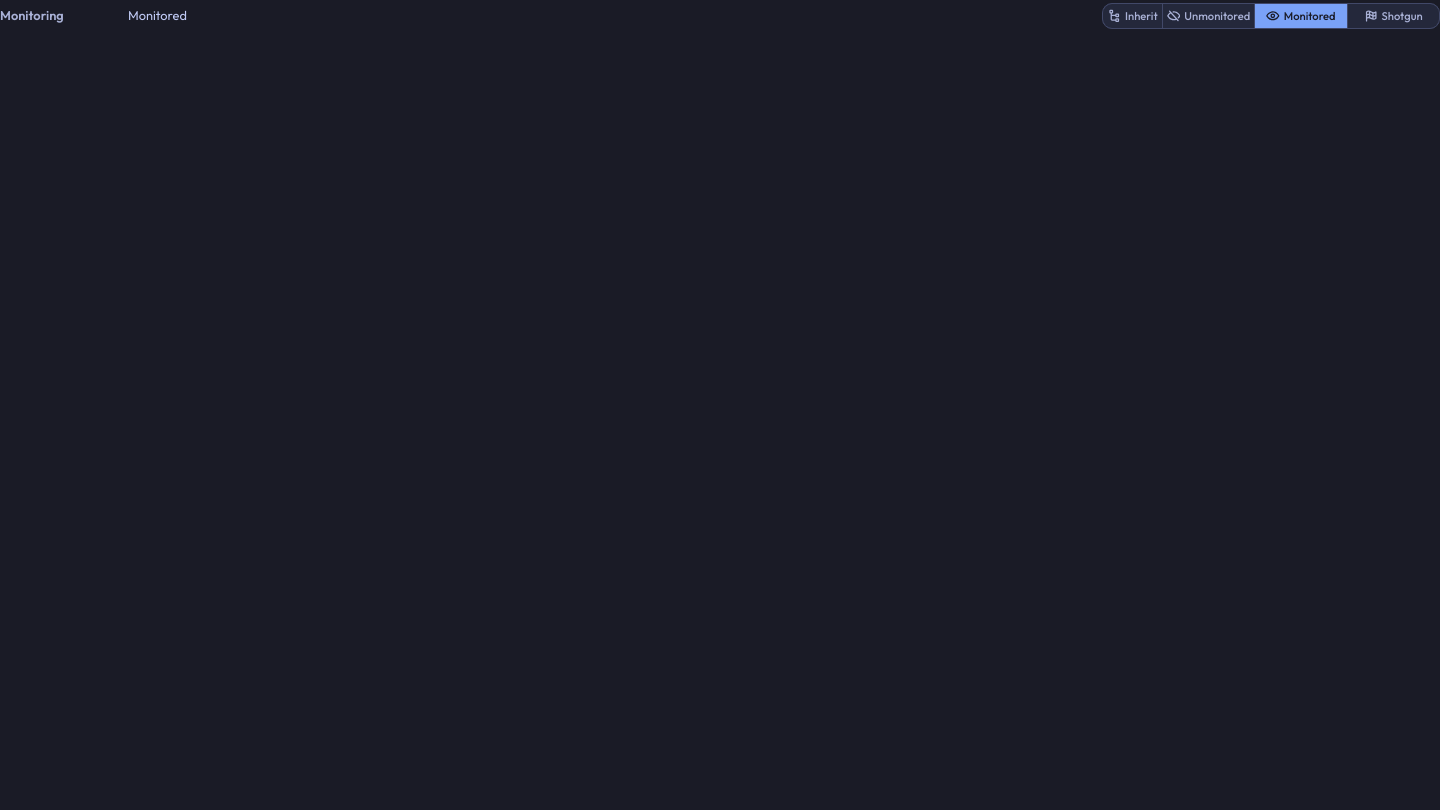
MonitoringControl › asks for confirmation with the Shotgun copy and patches nothing when cancelled
Click the radio button with test id "monitoring-control__option-shotgun" at [1393, 16], box x1=1348 y1=4 x2=1439 y2=28
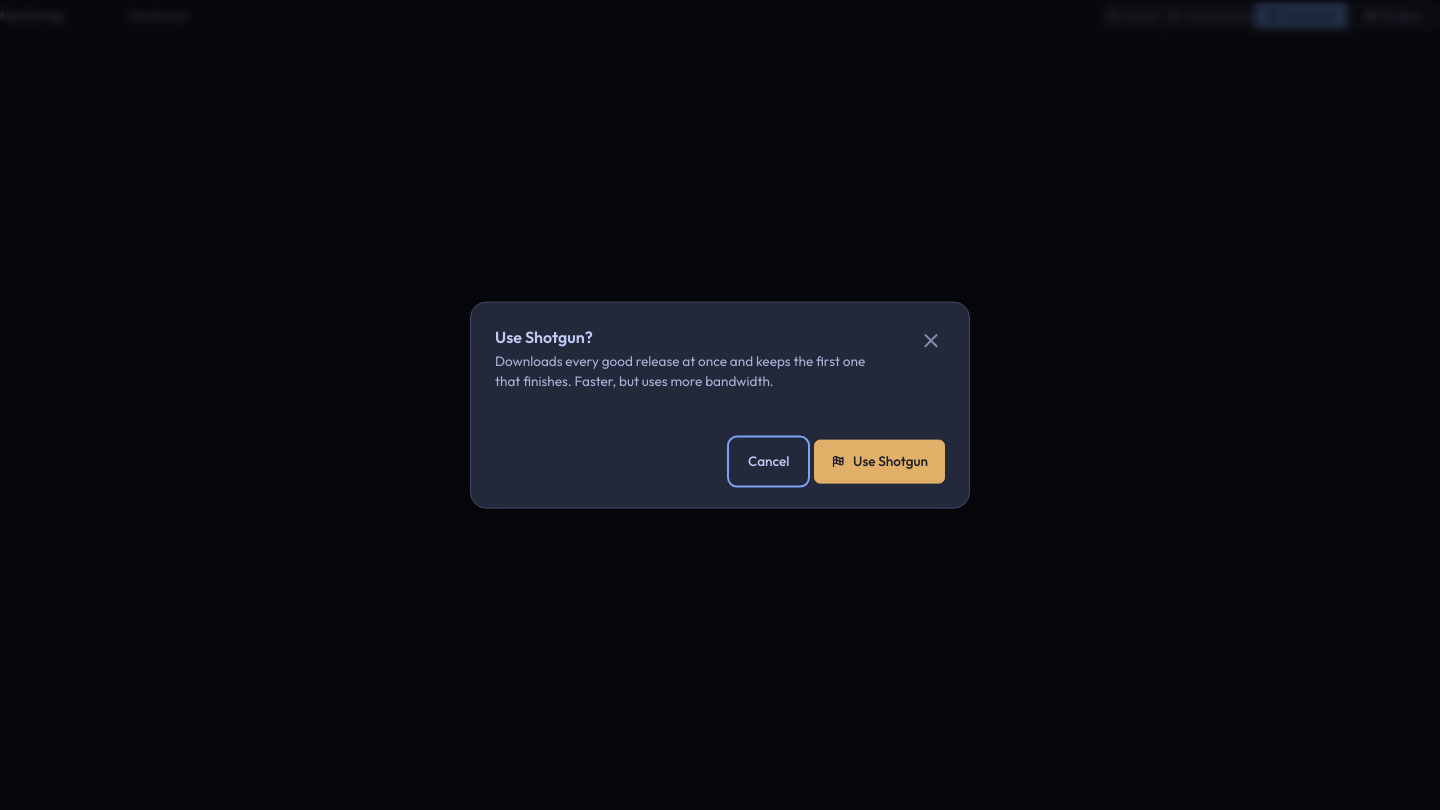
Check: the heading "Use Shotgun?" is shown, box x1=495 y1=327 x2=593 y2=347
Check: the text "Downloads every good release at once and keeps the first one that finishes. Faster, but uses more bandwidth." is shown, box x1=495 y1=352 x2=865 y2=390
Check: the button "Use Shotgun" is shown, box x1=814 y1=439 x2=945 y2=483
Click the button "Cancel" at [769, 461], box x1=731 y1=439 x2=806 y2=483
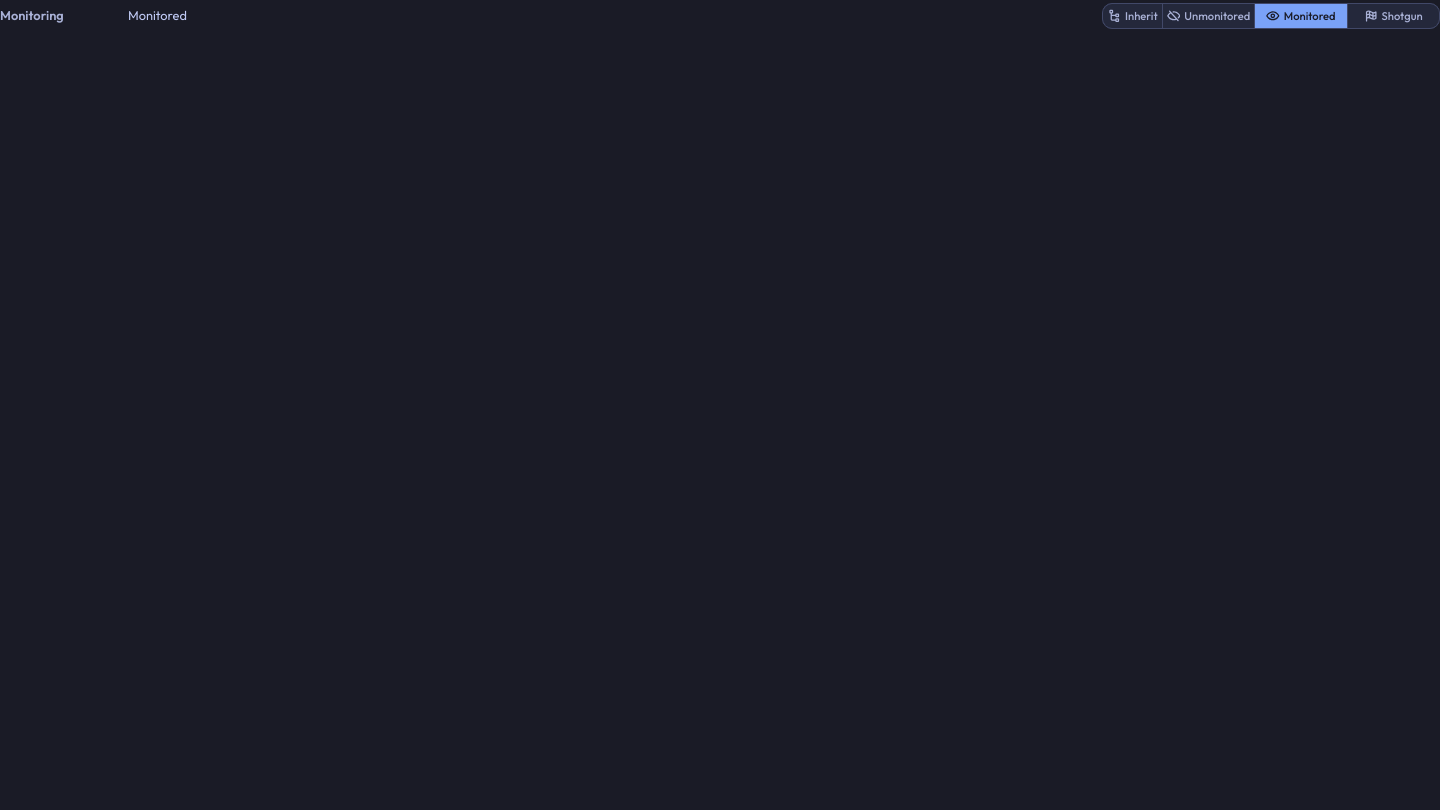
Check: the dialog is gone
